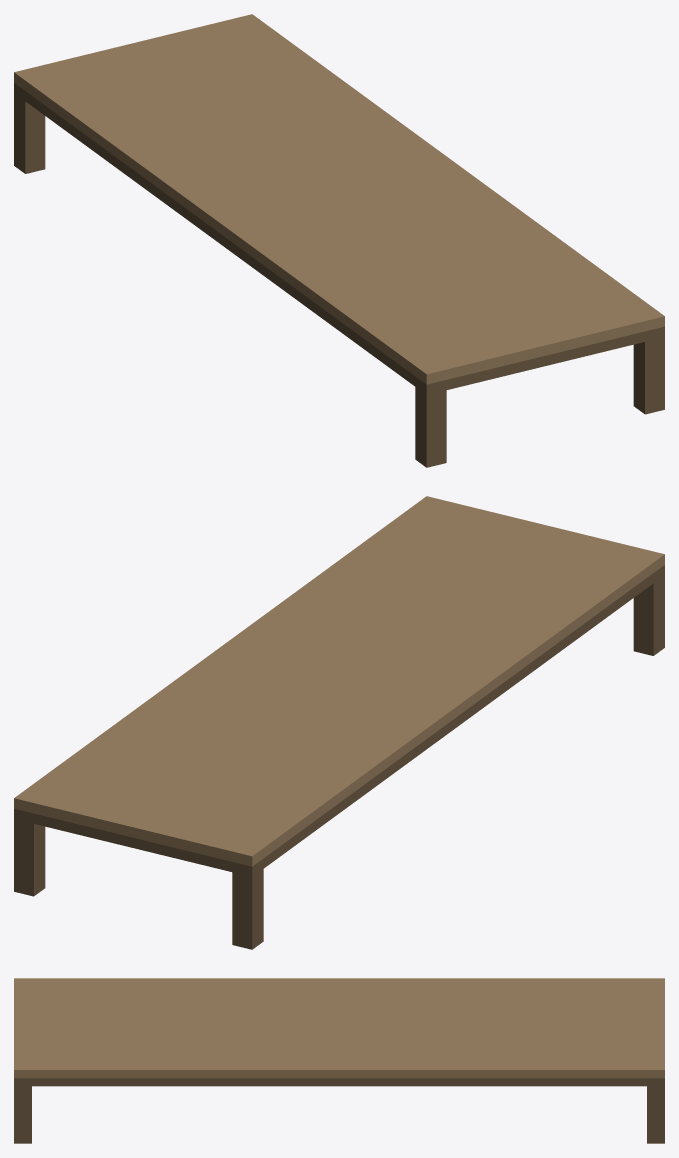
Rendered from mesa_comedor_larga_roble_01.glb.
The picture shows the model from 3 angles, top to bottom: view 1: azimuth 30°, elevation 25°; view 2: azimuth 150°, elevation 25°; view 3: azimuth 270°, elevation 25°; orthographic projection. The views are drawn at different scales.
Visible parts, largest first — view 1: mesa_comedor_larga_roble; view 2: mesa_comedor_larga_roble; view 3: mesa_comedor_larga_roble.
Boxes of the visible parts, bbox=[...] form: mesa_comedor_larga_roble: bbox=[14, 14, 664, 467]; mesa_comedor_larga_roble: bbox=[14, 496, 664, 949]; mesa_comedor_larga_roble: bbox=[14, 978, 664, 1143].
Size of the model in its own units: 2 by 0.75 by 6.
